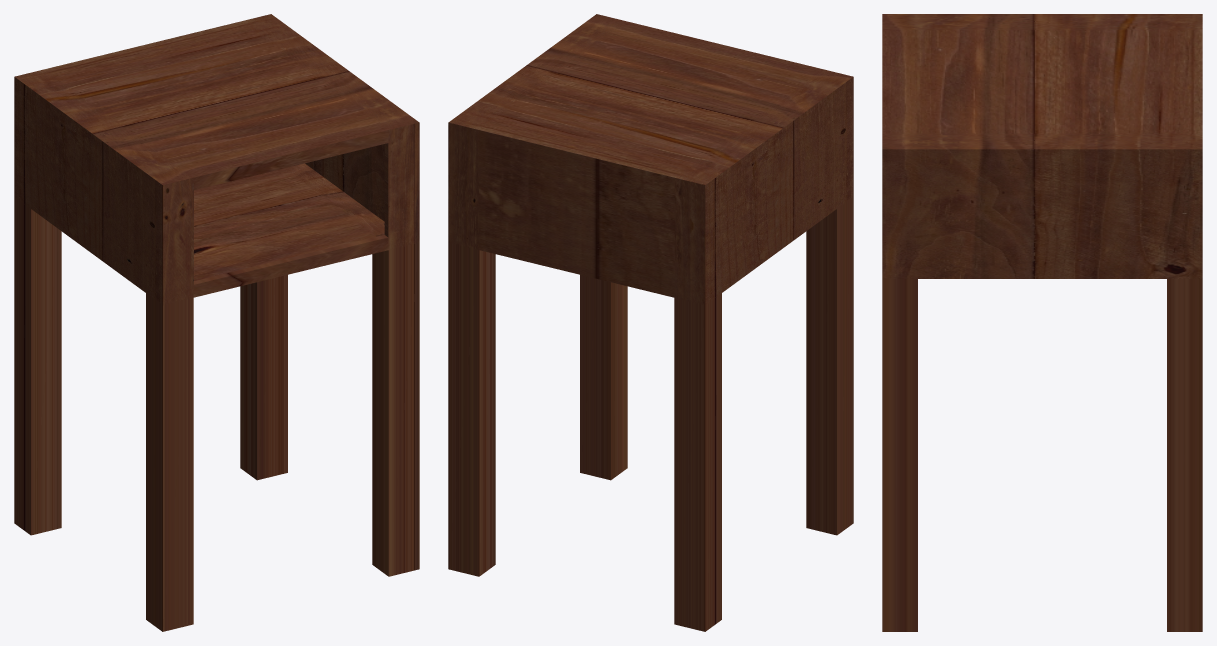
File: rakkamar.fbx
3 views of the same model, side by side, from view 1: azimuth 30°, elevation 25°; view 2: azimuth 150°, elevation 25°; view 3: azimuth 270°, elevation 25° (orthographic). The views are drawn at different scales.
Parts seen in each view (by area): view 1: Cube.003; view 2: Cube.003; view 3: Cube.003.
Part boxes in pixels (left/top/right/bottom): Cube.003: left=14, top=14, right=419, bottom=631; Cube.003: left=448, top=14, right=853, bottom=631; Cube.003: left=882, top=14, right=1202, bottom=631.
Size of the model in its own units: 200 by 332 by 200.
